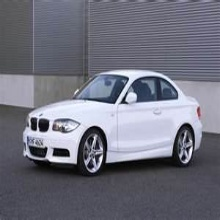no damage: (22, 68, 203, 175)
